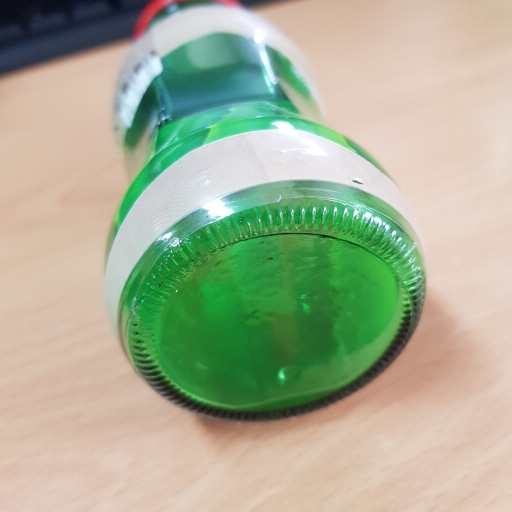Glass_4: (97, 3, 431, 425)
